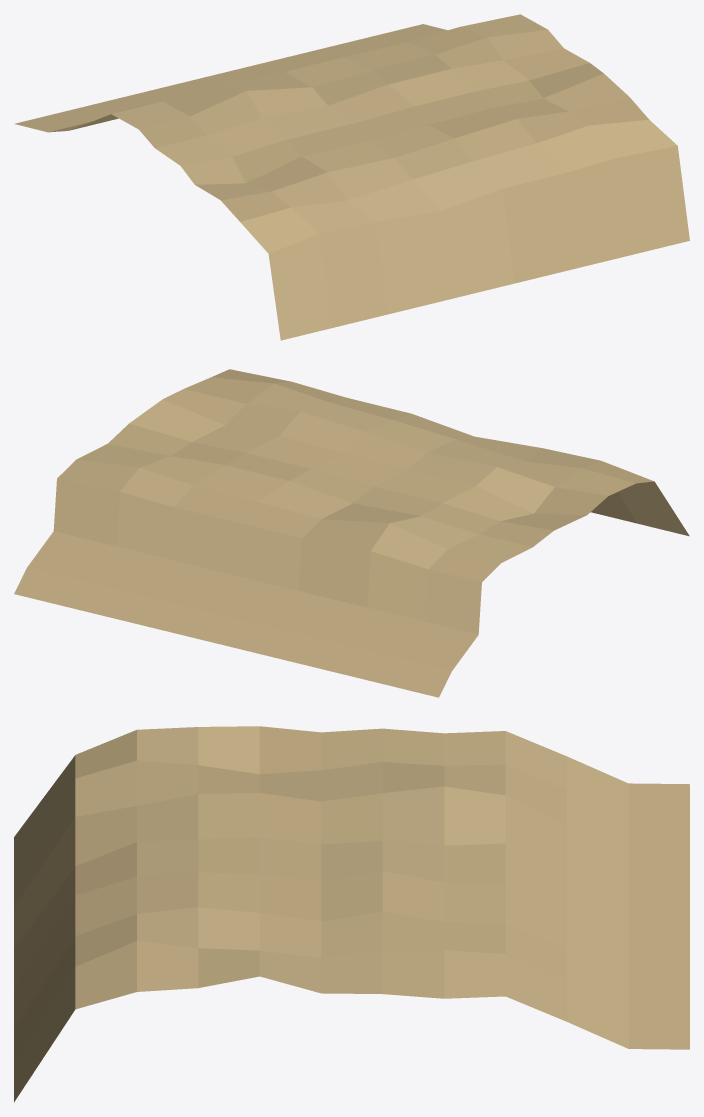
Rendered from beach_section.fbx.
3 views of the same model, one above another, from view 1: azimuth 30°, elevation 25°; view 2: azimuth 150°, elevation 25°; view 3: azimuth 270°, elevation 25° (orthographic). The views are drawn at different scales.
Visible parts, largest first — view 1: Beach.001; view 2: Beach.001; view 3: Beach.001.
Boxes of the visible parts, bbox=[...] form: Beach.001: bbox=[14, 14, 689, 340]; Beach.001: bbox=[14, 369, 689, 697]; Beach.001: bbox=[14, 726, 689, 1102].
Size of the model in its own units: 830 by 180 by 827.
